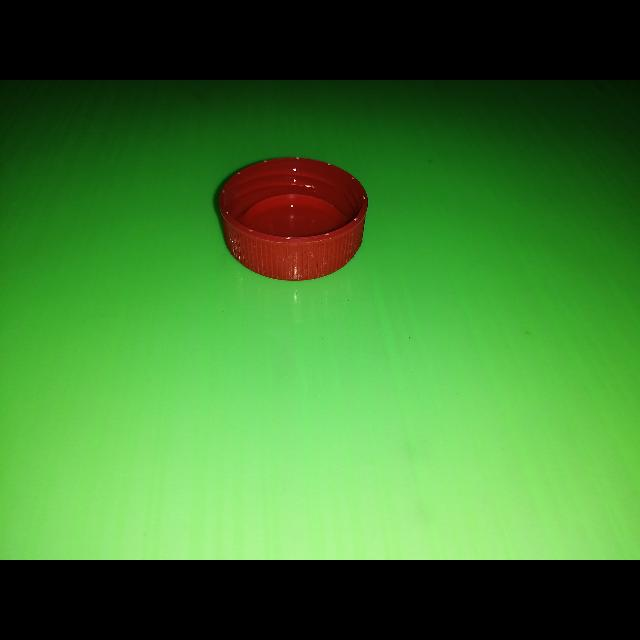plastic_bottle_cap: (218, 154, 368, 282)
